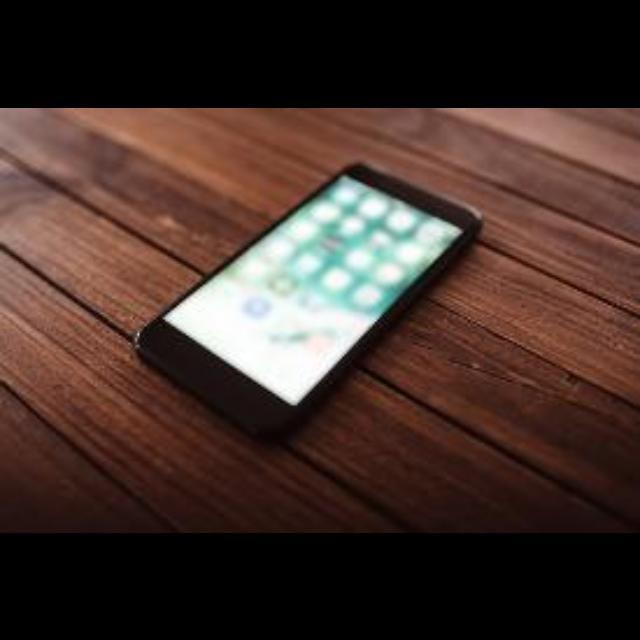phone: (129, 155, 511, 465)
